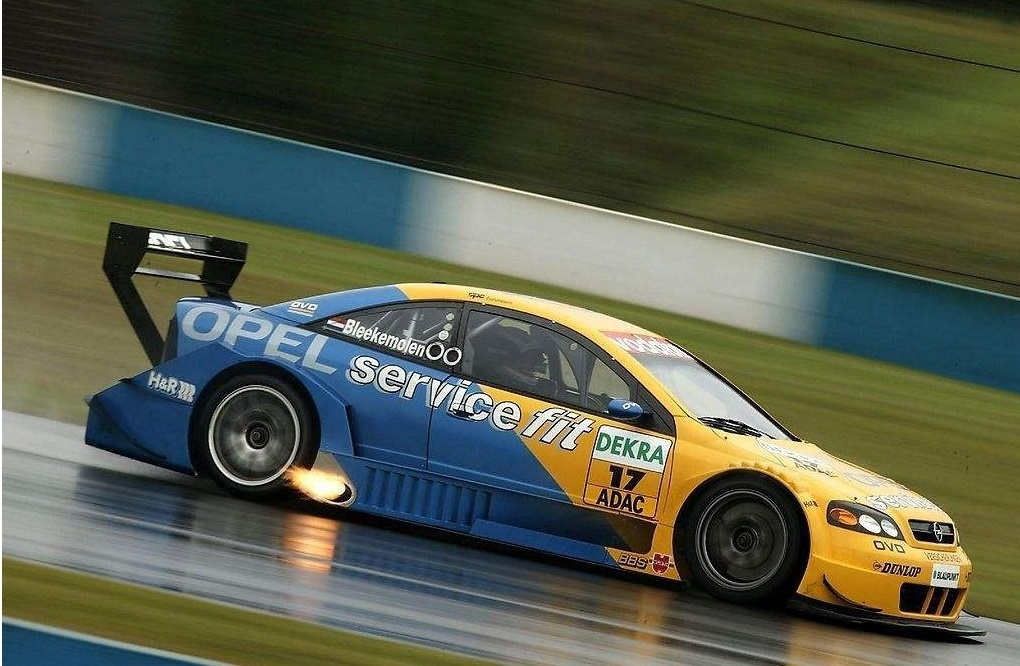racing car: (84, 209, 989, 630)
